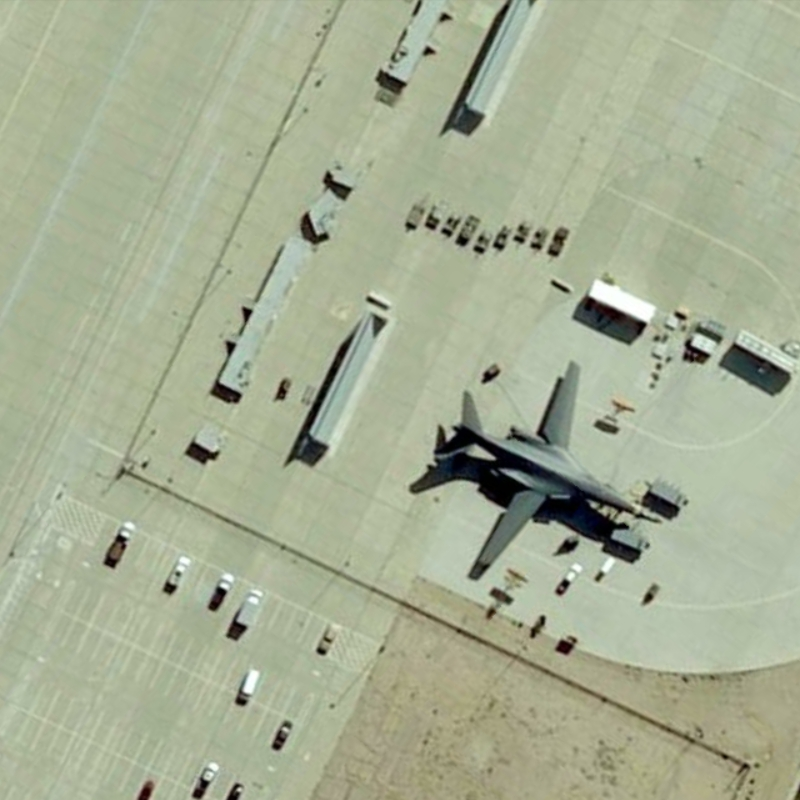A10: (418, 354, 671, 584)
